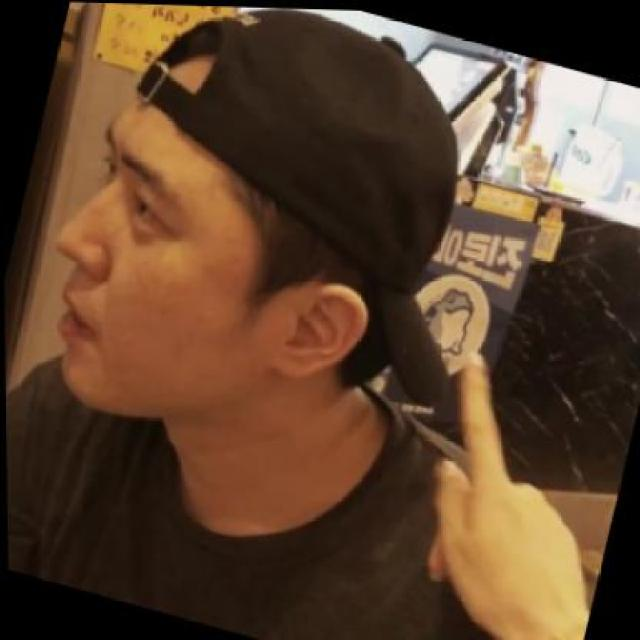hat: (132, 6, 460, 407)
